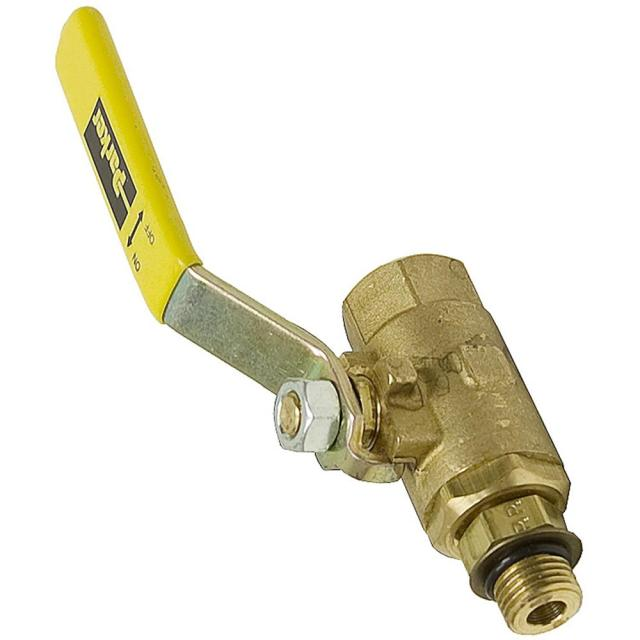opened_valve: (51, 6, 586, 638)
